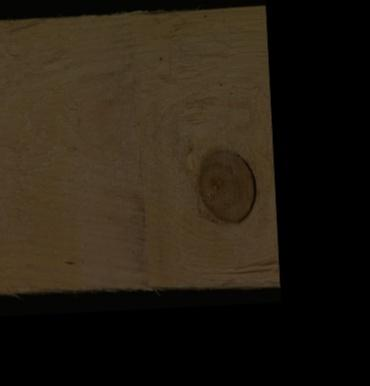dry_knot: (196, 146, 257, 223)
split: (199, 258, 274, 275)
